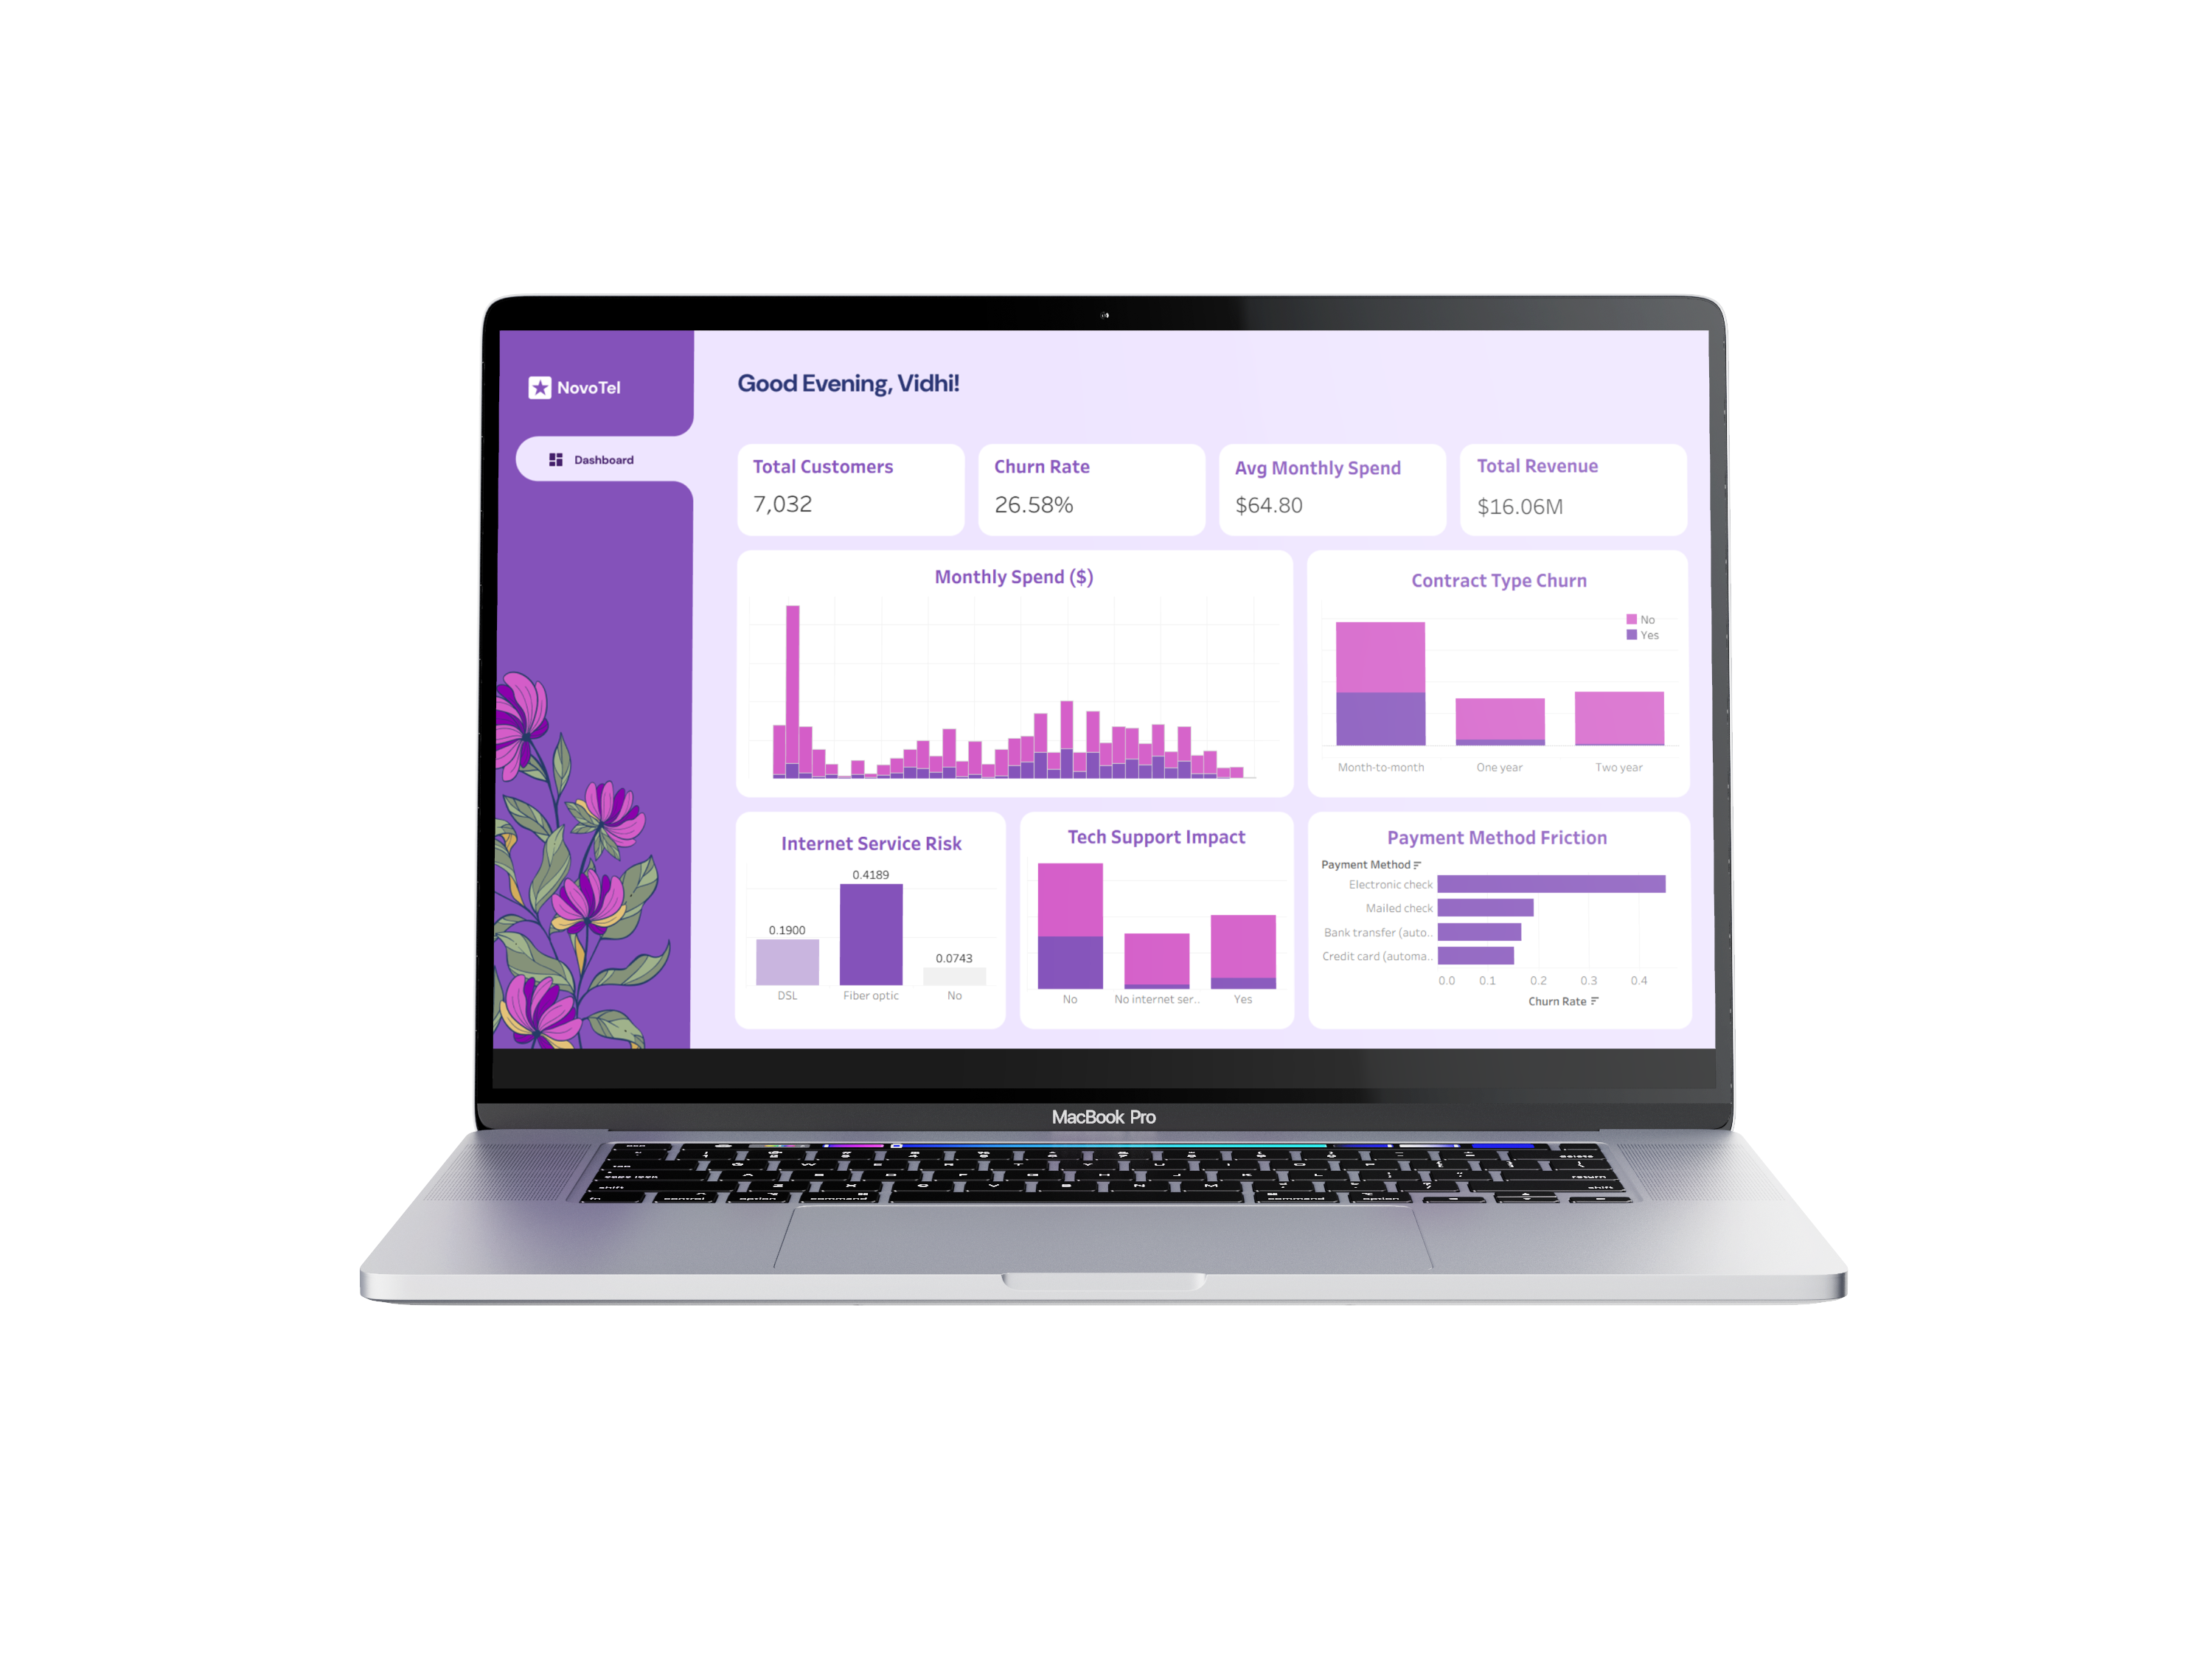

The dashboard page shown, as its layout file describes it:
{"tool":"tableau","page":{"name":"Dashboard 1","canvas":[1730,1024],"ordinal":0},"visuals":[{"type":"image","param":"C:/Users/vidhi/Desktop/Dashboard.png","box":[8,8,1714,1008]},{"type":"worksheet","title":"Total Revenue","mark":"Automatic","box":[1367,177,276,105]},{"type":"worksheet","title":"Total Customers","mark":"Automatic","box":[380,178,279,97]},{"type":"worksheet","title":"Churn Rate","mark":"Automatic","box":[709,178,275,98]},{"type":"worksheet","title":"Avg Monthly Spend","mark":"Automatic","box":[1037,180,285,95]},{"type":"worksheet","title":"Distribution of Monthly Spend","mark":"Automatic","rows":["MonthlyCharges"],"cols":["Monthly Charges (bin)"],"box":[380,329,721,297]},{"type":"worksheet","title":"Contract Type Analysis","mark":"Automatic","rows":["cleaned_customer_data.csv_3543ABC7E14549E88EC7F1C623C0DB2F"],"cols":["Contract"],"box":[1158,334,485,303]},{"type":"legend","title":"Contract Type Analysis","param":"[federated.0qttap10dn24g510op1ma1n4xswa].[none:Churn:nk]","box":[1570,399,62,42]},{"type":"worksheet","title":"Tech Support Impact","mark":"Automatic","rows":["cleaned_customer_data.csv_3543ABC7E14549E88EC7F1C623C0DB2F"],"cols":["TechSupport"],"box":[758,683,352,268]},{"type":"worksheet","title":"Payment Method Friction","mark":"Automatic","rows":["PaymentMethod"],"cols":["Calculation_265712390317461504"],"box":[1153,684,485,261]},{"type":"worksheet","title":"Internet Service Risk","mark":"Automatic","rows":["Calculation_265712390317461504"],"cols":["InternetService"],"box":[378,692,339,254]}]}

Visuals, with their boxes on the page's 1730x1024 design canvas (x1, y1, x2, y2). These are canvas units, not pixel positions in the 2212x1659 screenshot, which may show the page scaled, cropped or inside an application window:
image: {"x1": 8, "y1": 8, "x2": 1722, "y2": 1016}
"Total Revenue" worksheet: {"x1": 1367, "y1": 177, "x2": 1643, "y2": 282}
"Total Customers" worksheet: {"x1": 380, "y1": 178, "x2": 659, "y2": 275}
"Churn Rate" worksheet: {"x1": 709, "y1": 178, "x2": 984, "y2": 276}
"Avg Monthly Spend" worksheet: {"x1": 1037, "y1": 180, "x2": 1322, "y2": 275}
"Distribution of Monthly Spend" worksheet: {"x1": 380, "y1": 329, "x2": 1101, "y2": 626}
"Contract Type Analysis" worksheet: {"x1": 1158, "y1": 334, "x2": 1643, "y2": 637}
"Contract Type Analysis" legend: {"x1": 1570, "y1": 399, "x2": 1632, "y2": 441}
"Tech Support Impact" worksheet: {"x1": 758, "y1": 683, "x2": 1110, "y2": 951}
"Payment Method Friction" worksheet: {"x1": 1153, "y1": 684, "x2": 1638, "y2": 945}
"Internet Service Risk" worksheet: {"x1": 378, "y1": 692, "x2": 717, "y2": 946}
